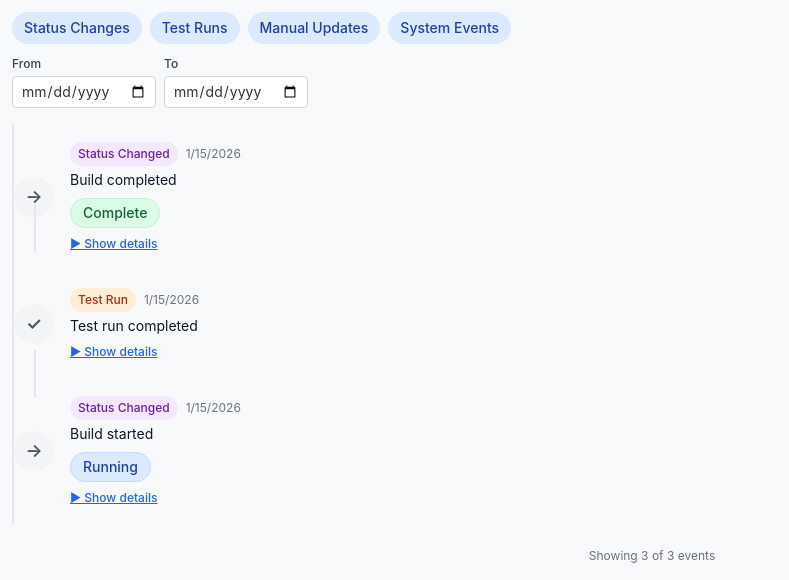
Test: ActivityFeed › should handle empty results after filtering
Click the button "System Events".
click(450, 28)  # box x1=388 y1=12 x2=511 y2=44
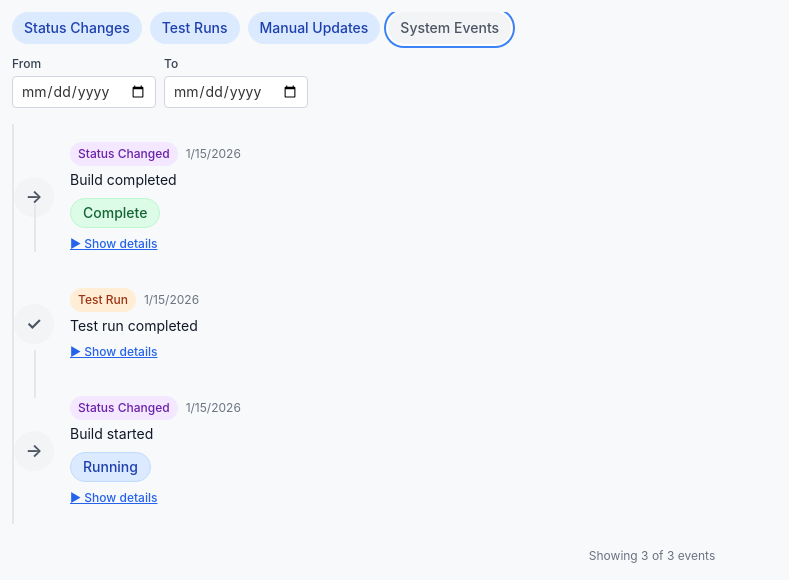
Uncheck others - click multiple buttons
Click the button "Status Changes".
click(77, 28)  # box x1=12 y1=12 x2=142 y2=44
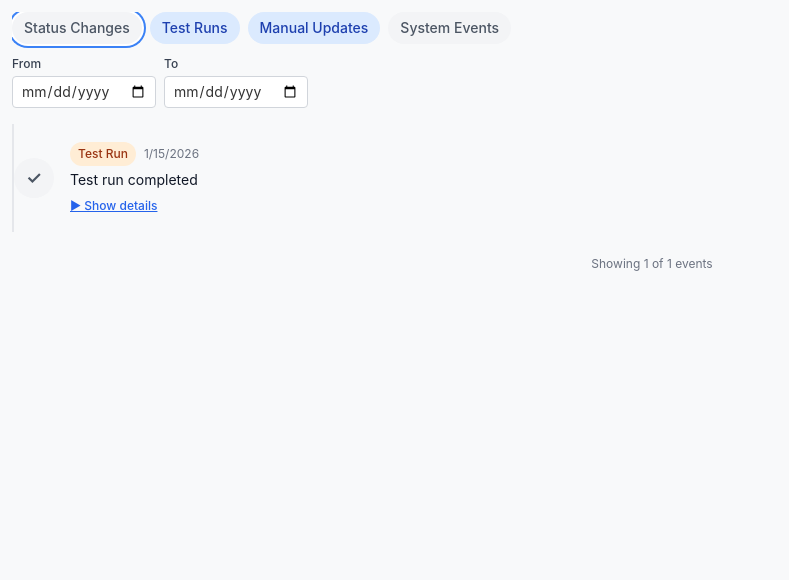
Click the button "Test Runs".
click(195, 28)  # box x1=150 y1=12 x2=240 y2=44
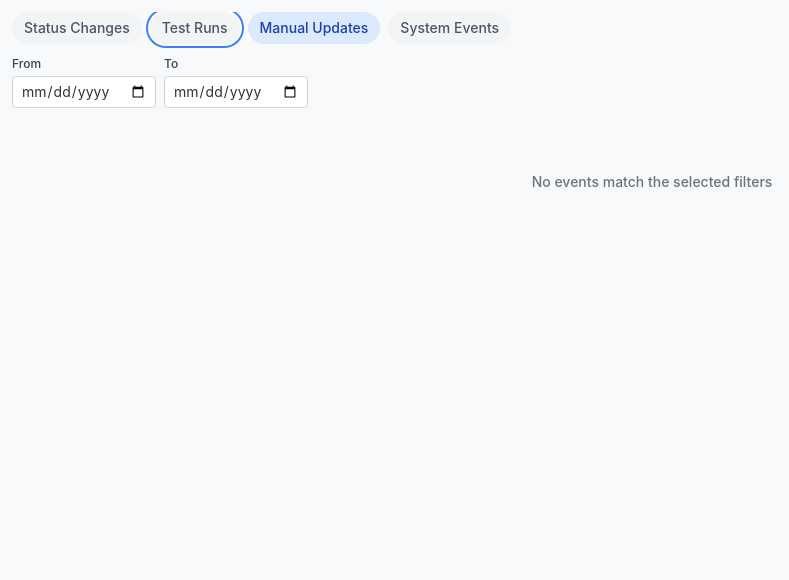
Expected: the text "No events match the selected filters" is shown, x1=532 y1=173 x2=772 y2=190
